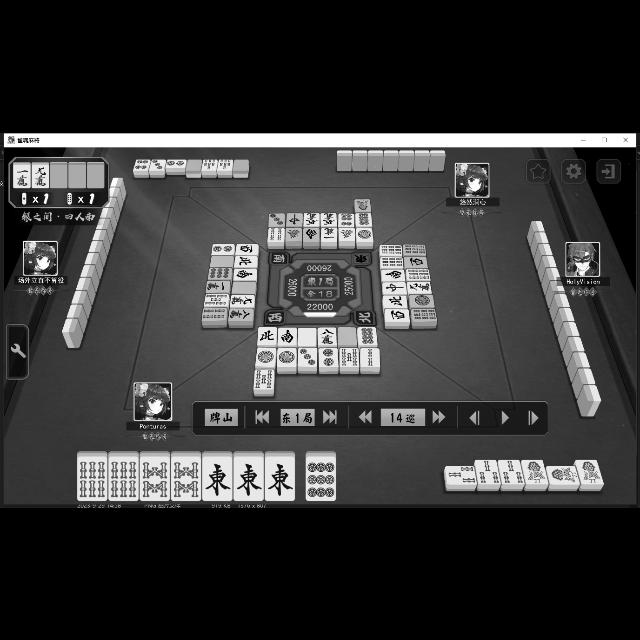1m: (13, 165, 31, 188), (205, 280, 231, 292), (320, 227, 338, 241)
1p: (255, 346, 275, 366), (276, 348, 296, 367), (409, 294, 435, 306), (356, 227, 374, 241)
1s: (547, 464, 581, 484), (522, 458, 548, 484), (576, 460, 604, 484), (355, 197, 371, 211)
2p: (319, 348, 337, 367), (212, 242, 234, 254), (166, 158, 186, 166)
2s: (360, 346, 380, 366)
3p: (298, 348, 318, 367), (268, 212, 286, 226), (150, 158, 164, 170)
3s: (499, 458, 525, 484), (445, 466, 477, 484), (476, 459, 500, 483)
4p: (133, 158, 149, 170)
4s: (201, 308, 227, 320), (268, 227, 284, 241)
5m: (304, 212, 320, 226), (321, 212, 337, 226)
5s: (254, 369, 274, 389), (339, 348, 358, 367), (204, 292, 228, 306)
6p: (338, 212, 354, 226)
6s: (108, 456, 138, 500), (77, 456, 106, 500), (406, 268, 430, 280)
7s: (202, 158, 216, 170), (218, 158, 232, 170)
8m: (318, 327, 337, 345), (228, 308, 252, 320)
8p: (358, 326, 377, 344), (356, 211, 372, 225)
8s: (140, 456, 170, 500), (172, 456, 200, 499)
9m: (32, 165, 48, 188), (408, 280, 432, 294), (230, 294, 254, 306)
9p: (305, 456, 335, 499), (206, 267, 232, 279)
9s: (412, 308, 438, 322), (404, 242, 426, 255), (381, 256, 404, 268), (380, 243, 402, 254)
chun: (382, 280, 408, 294), (286, 212, 302, 226)
haku: (338, 327, 357, 345), (299, 327, 317, 345), (232, 281, 256, 293), (209, 254, 233, 266)
hatsu: (286, 227, 302, 240), (339, 227, 355, 240)
nan: (279, 327, 297, 345), (381, 268, 405, 280), (233, 268, 257, 280), (304, 228, 318, 240)
pe: (383, 294, 407, 308), (258, 326, 276, 344), (233, 255, 257, 267)
sha: (384, 309, 410, 321), (404, 255, 428, 268), (236, 243, 258, 255)
tou: (202, 456, 232, 500), (264, 456, 294, 500), (233, 456, 263, 499)
